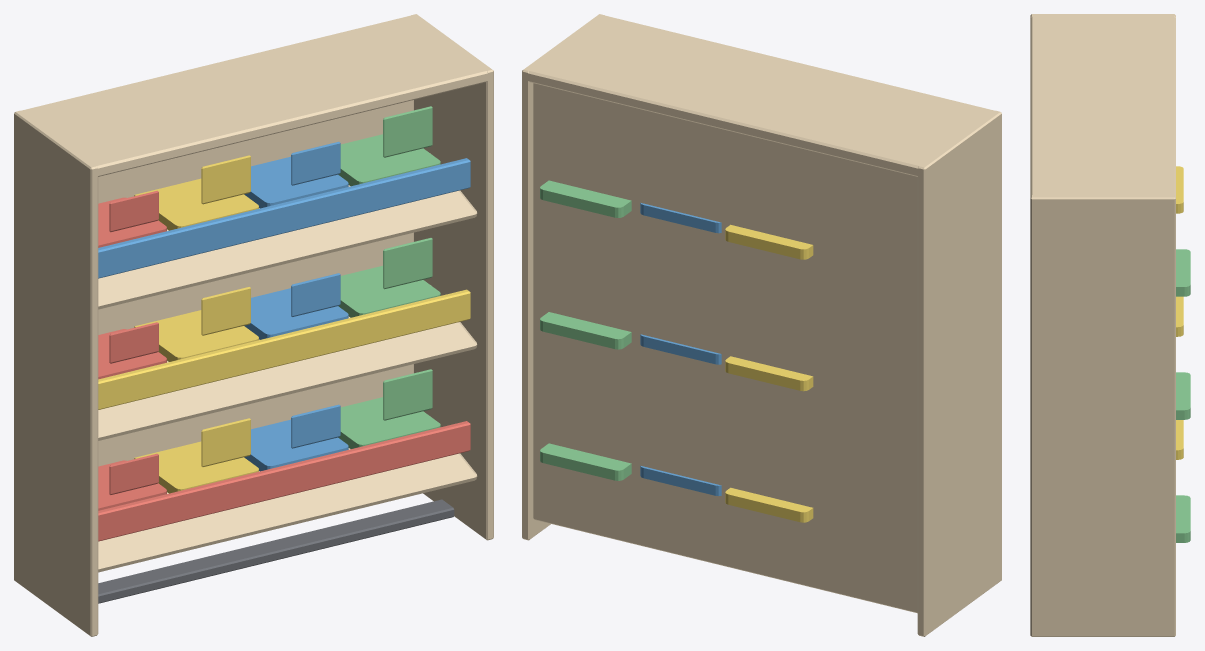
The model's file is nursery-and-primary-classroom-book-display-shelf-c80104bd__34995.glb.
3 views of the same model, side by side, from view 1: azimuth 30°, elevation 25°; view 2: azimuth 150°, elevation 25°; view 3: azimuth 270°, elevation 25° (orthographic). The views are drawn at different scales.
Parts seen in each view (by area): view 1: book-display-shelf; view 2: book-display-shelf; view 3: book-display-shelf.
Part boxes in pixels (x1,y1,x2,y2): book-display-shelf: [14, 14, 493, 636]; book-display-shelf: [522, 14, 1001, 636]; book-display-shelf: [1030, 14, 1190, 636].
Size of the model in its own units: 0.9 by 1 by 0.33.
